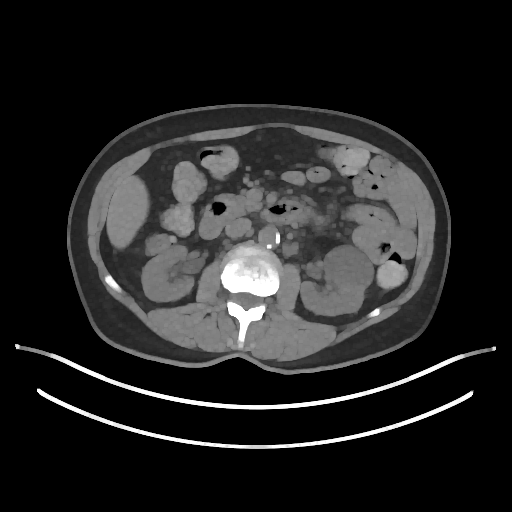Lesion: (318, 241, 375, 297)
